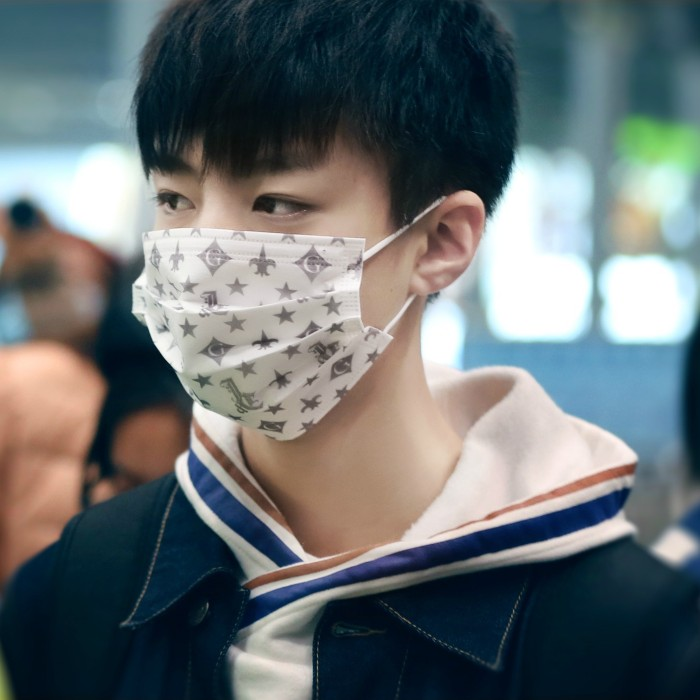face_mask: (143, 67, 397, 408)
